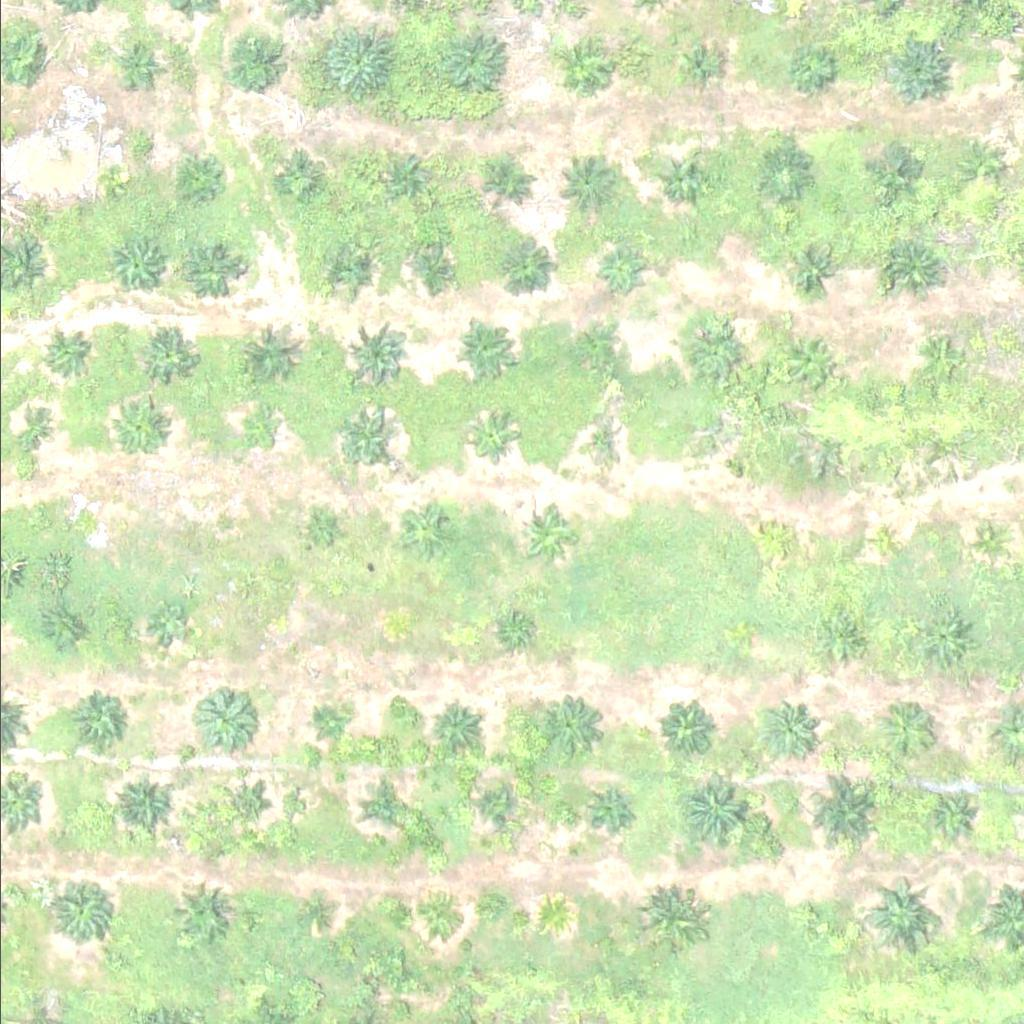Kelapa_Sawit: (798, 769, 886, 856), (434, 22, 510, 97), (216, 26, 292, 101), (320, 26, 396, 101), (859, 877, 935, 952), (680, 772, 755, 847), (196, 686, 259, 749), (392, 497, 455, 560), (178, 240, 241, 303), (874, 695, 937, 758), (757, 698, 820, 761), (640, 889, 703, 952), (554, 156, 617, 219), (683, 314, 746, 377), (515, 504, 578, 567), (885, 43, 948, 106), (908, 609, 971, 672), (485, 235, 548, 298), (447, 319, 510, 381), (69, 687, 132, 749), (234, 320, 297, 382), (333, 407, 396, 469), (350, 323, 413, 385), (537, 692, 600, 754), (654, 696, 717, 758), (112, 770, 175, 832), (168, 880, 231, 942), (48, 878, 111, 940), (881, 238, 944, 300), (780, 332, 843, 394), (100, 237, 162, 299), (466, 413, 517, 463), (428, 698, 479, 748), (358, 775, 409, 825), (758, 150, 809, 200), (876, 148, 927, 198), (787, 45, 838, 95), (787, 243, 838, 293), (572, 417, 623, 467), (574, 329, 625, 379), (597, 247, 648, 297), (655, 155, 706, 205), (179, 152, 229, 202), (275, 151, 325, 201), (144, 333, 194, 383), (112, 403, 162, 453), (579, 779, 629, 829), (554, 44, 604, 94), (820, 612, 870, 662), (216, 776, 266, 826), (465, 780, 515, 830), (917, 338, 967, 388), (957, 141, 1007, 191), (409, 245, 459, 295), (325, 247, 375, 297), (389, 153, 439, 203), (484, 158, 534, 208), (671, 40, 721, 90), (40, 328, 90, 378), (926, 788, 977, 837), (118, 44, 156, 82), (534, 895, 572, 933), (412, 897, 450, 935), (292, 896, 330, 934), (969, 523, 1007, 561), (862, 525, 900, 563), (762, 521, 800, 559), (491, 612, 529, 650), (239, 408, 277, 446), (56, 506, 94, 544), (14, 412, 52, 450), (40, 611, 78, 648), (308, 703, 346, 740), (710, 428, 748, 465), (303, 511, 340, 548), (153, 606, 190, 643), (795, 905, 820, 930), (103, 165, 128, 190)
